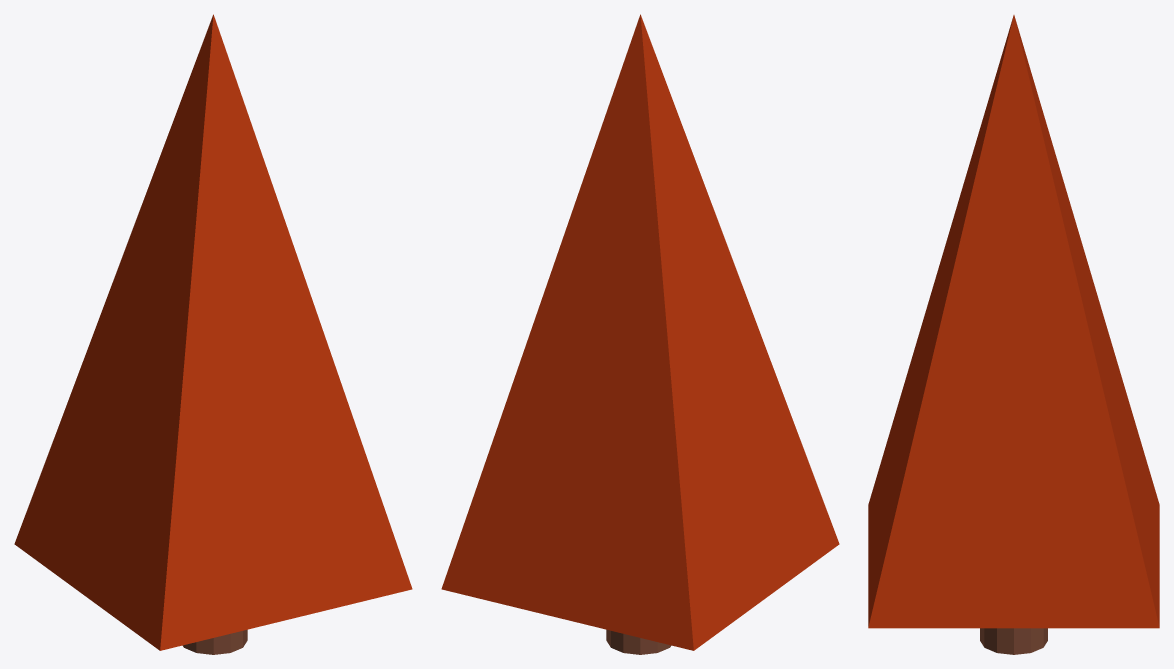
The model's file is Tree_36_summer_red_mat.fbx.
The picture shows the model from 3 angles, left to right: view 1: azimuth 30°, elevation 25°; view 2: azimuth 150°, elevation 25°; view 3: azimuth 270°, elevation 25°; orthographic projection.
Parts seen in each view (by area): view 1: Tree_36_summer_red_mat; view 2: Tree_36_summer_red_mat; view 3: Tree_36_summer_red_mat.
Boxes of the visible parts, <box> form: Tree_36_summer_red_mat: <box>14,14,412,654</box>; Tree_36_summer_red_mat: <box>441,14,839,654</box>; Tree_36_summer_red_mat: <box>868,15,1159,654</box>.
Size of the model in its own units: 69.07 by 164 by 69.07.
